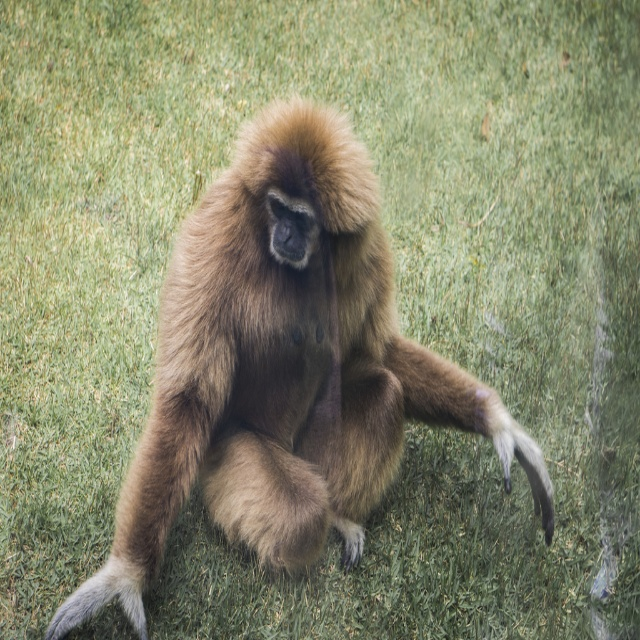Monkey: (43, 86, 555, 639)
